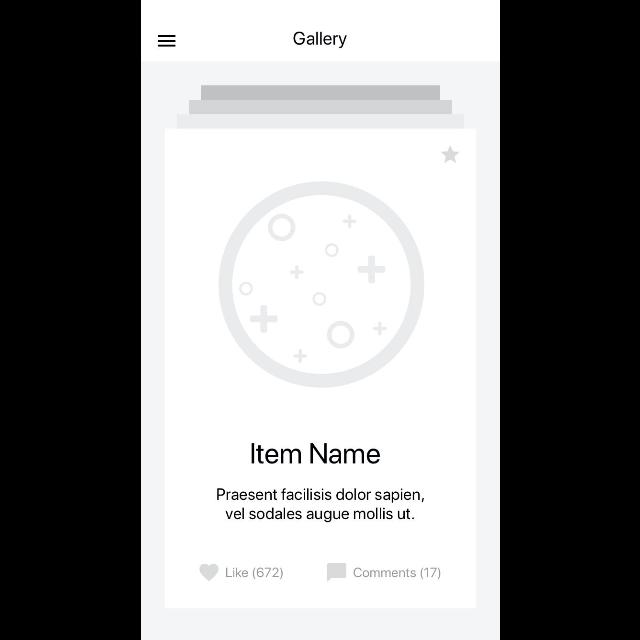icon: (440, 144, 460, 164), (326, 562, 346, 582), (200, 564, 218, 582), (157, 35, 175, 47)
image: (218, 181, 424, 387)
text: (216, 488, 424, 524), (250, 442, 380, 464), (354, 567, 441, 579), (292, 32, 346, 48), (225, 567, 282, 579)
